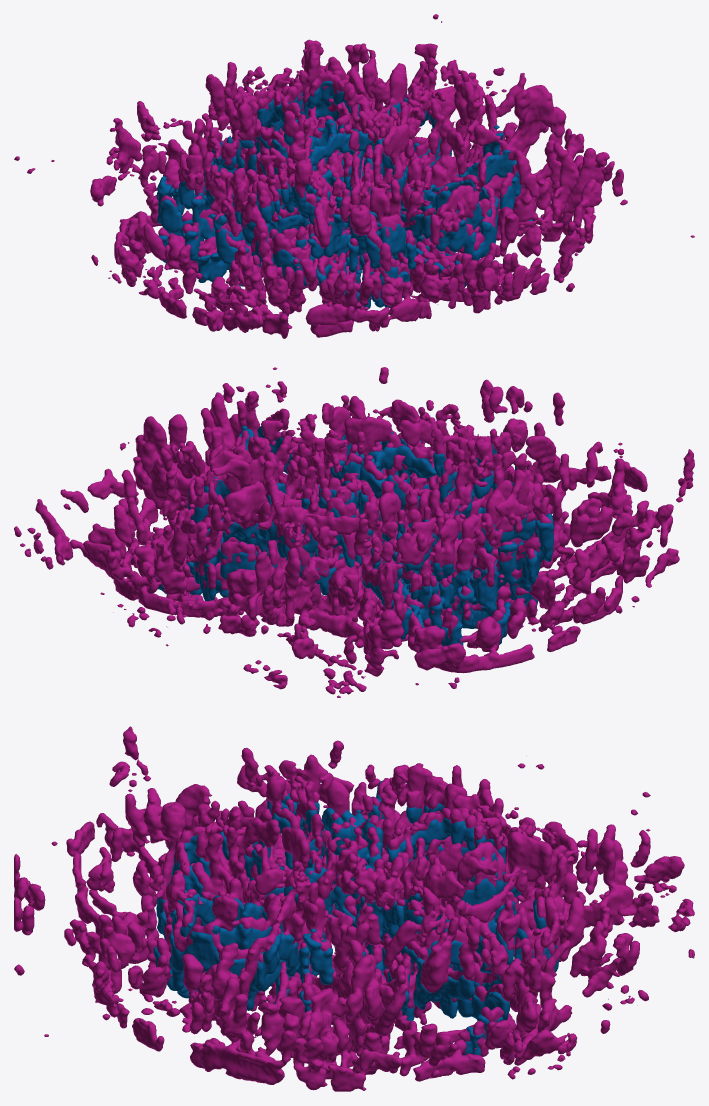
3 views of the same model, one above another, from view 1: azimuth 30°, elevation 25°; view 2: azimuth 150°, elevation 25°; view 3: azimuth 270°, elevation 25° (orthographic). The views are drawn at different scales.
Visible parts, largest first — view 1: 100_72hr_tmre, 100_72_mito; view 2: 100_72hr_tmre, 100_72_mito; view 3: 100_72hr_tmre, 100_72_mito.
Boxes of the visible parts, bbox=[...] form: 100_72hr_tmre: bbox=[14, 14, 694, 338]; 100_72_mito: bbox=[156, 81, 532, 308]; 100_72hr_tmre: bbox=[14, 367, 694, 697]; 100_72_mito: bbox=[156, 425, 554, 646]; 100_72hr_tmre: bbox=[14, 726, 694, 1091]; 100_72_mito: bbox=[153, 780, 559, 1055].
Size of the model in its own units: 42.01 by 12.26 by 42.16.
